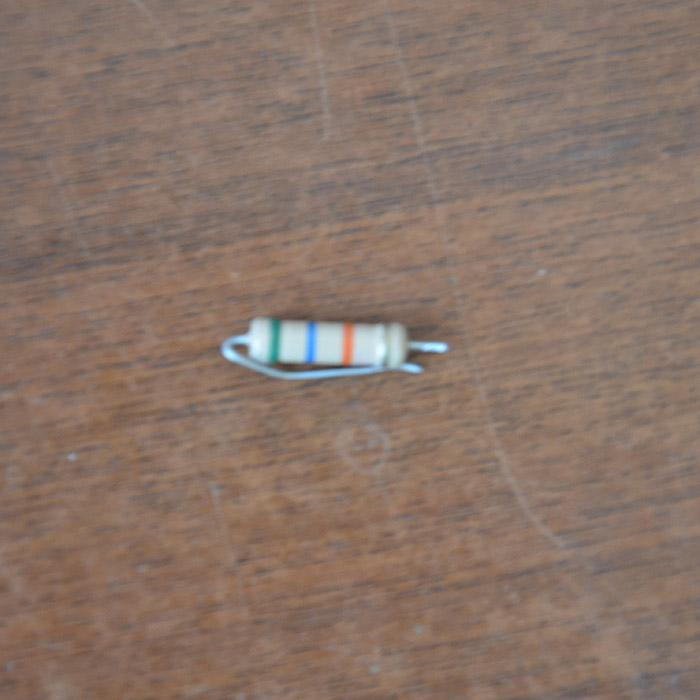resistor: (244, 317, 407, 367)
